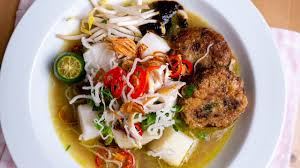soto: (11, 1, 268, 168)
